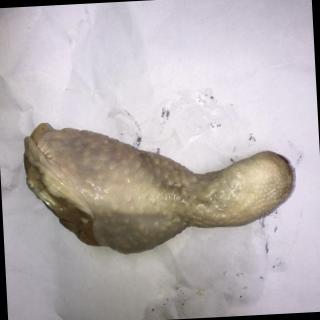Ayam: (23, 110, 299, 261)
